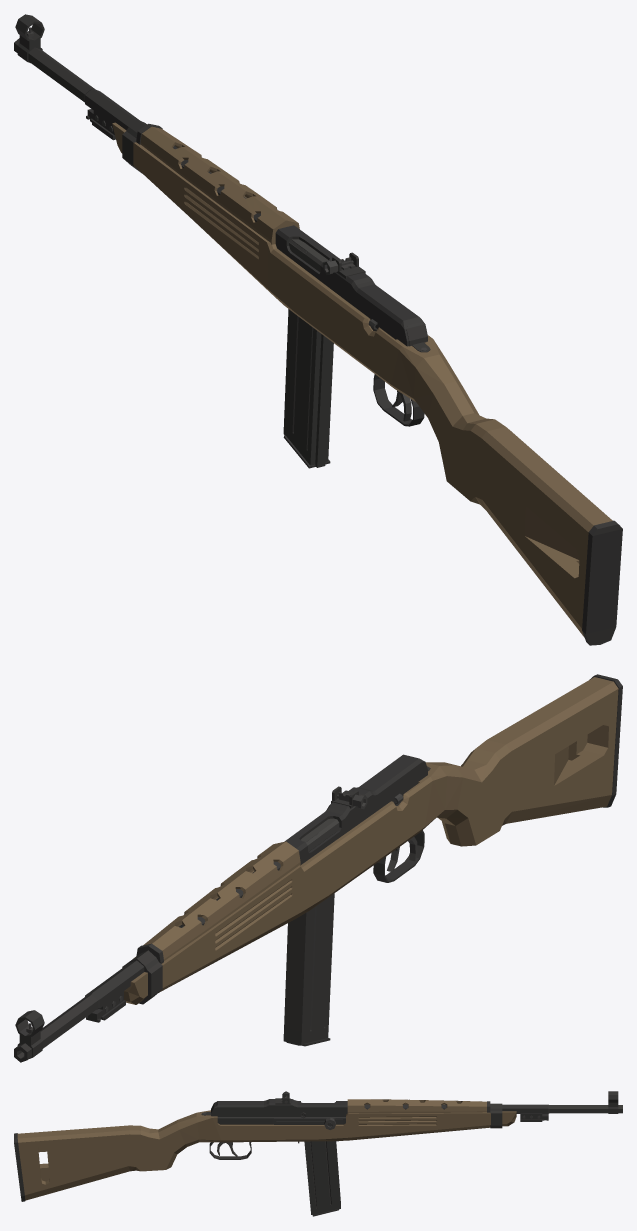
3 renders of one model, top to bottom at view 1: azimuth 30°, elevation 25°; view 2: azimuth 150°, elevation 25°; view 3: azimuth 270°, elevation 25°, orthographic. The views are drawn at different scales.
Parts seen in each view (by area): view 1: beretta-model-57; view 2: beretta-model-57; view 3: beretta-model-57.
Part boxes in pixels (bbox=[...]): beretta-model-57: bbox=[14, 14, 622, 645]; beretta-model-57: bbox=[14, 674, 622, 1062]; beretta-model-57: bbox=[14, 1091, 622, 1216].
Bounding box in the file's own units: 0.0445 × 0.2219 × 1.
